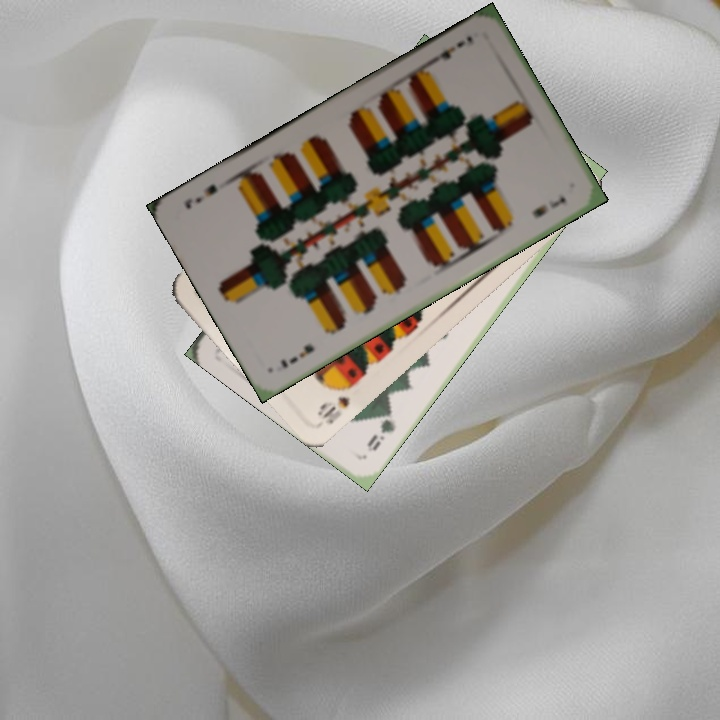E7: (426, 31, 477, 67), (276, 340, 317, 371)
G9: (362, 403, 398, 454)
S10: (313, 378, 359, 427)
